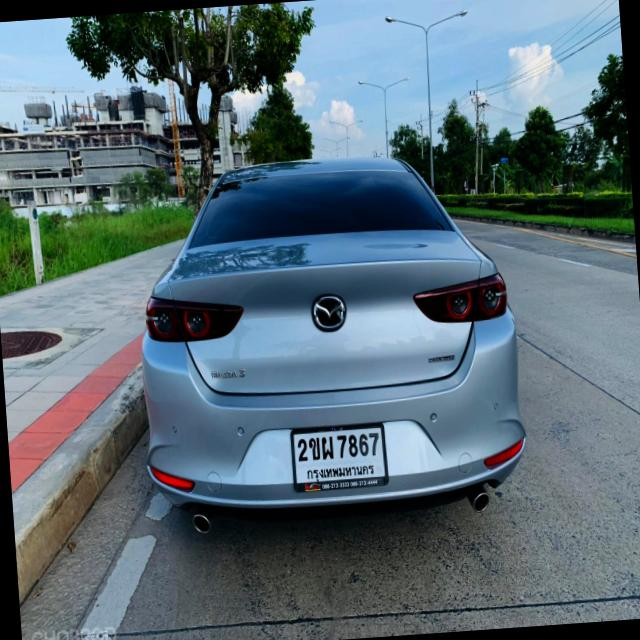license_plate: (288, 420, 391, 494)
